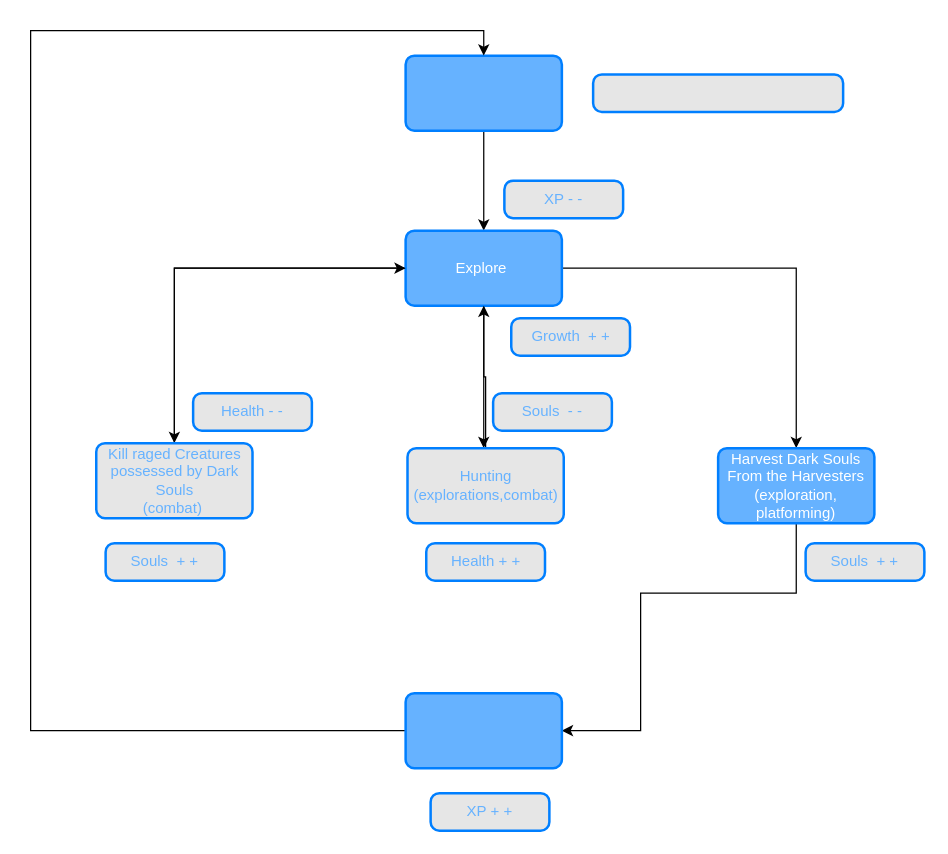
Some shapes in this 948 by 854 pixel diagram are drawn without their labels. The centre of each missing label's shape, as x and y in pixels:
Evaluate Situation: pixel 483 92
Feed the tree of Souls: pixel 483 730
Progress = XP + Health + Growth: pixel 717 92
